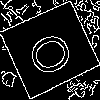O: (25, 24, 83, 81)
